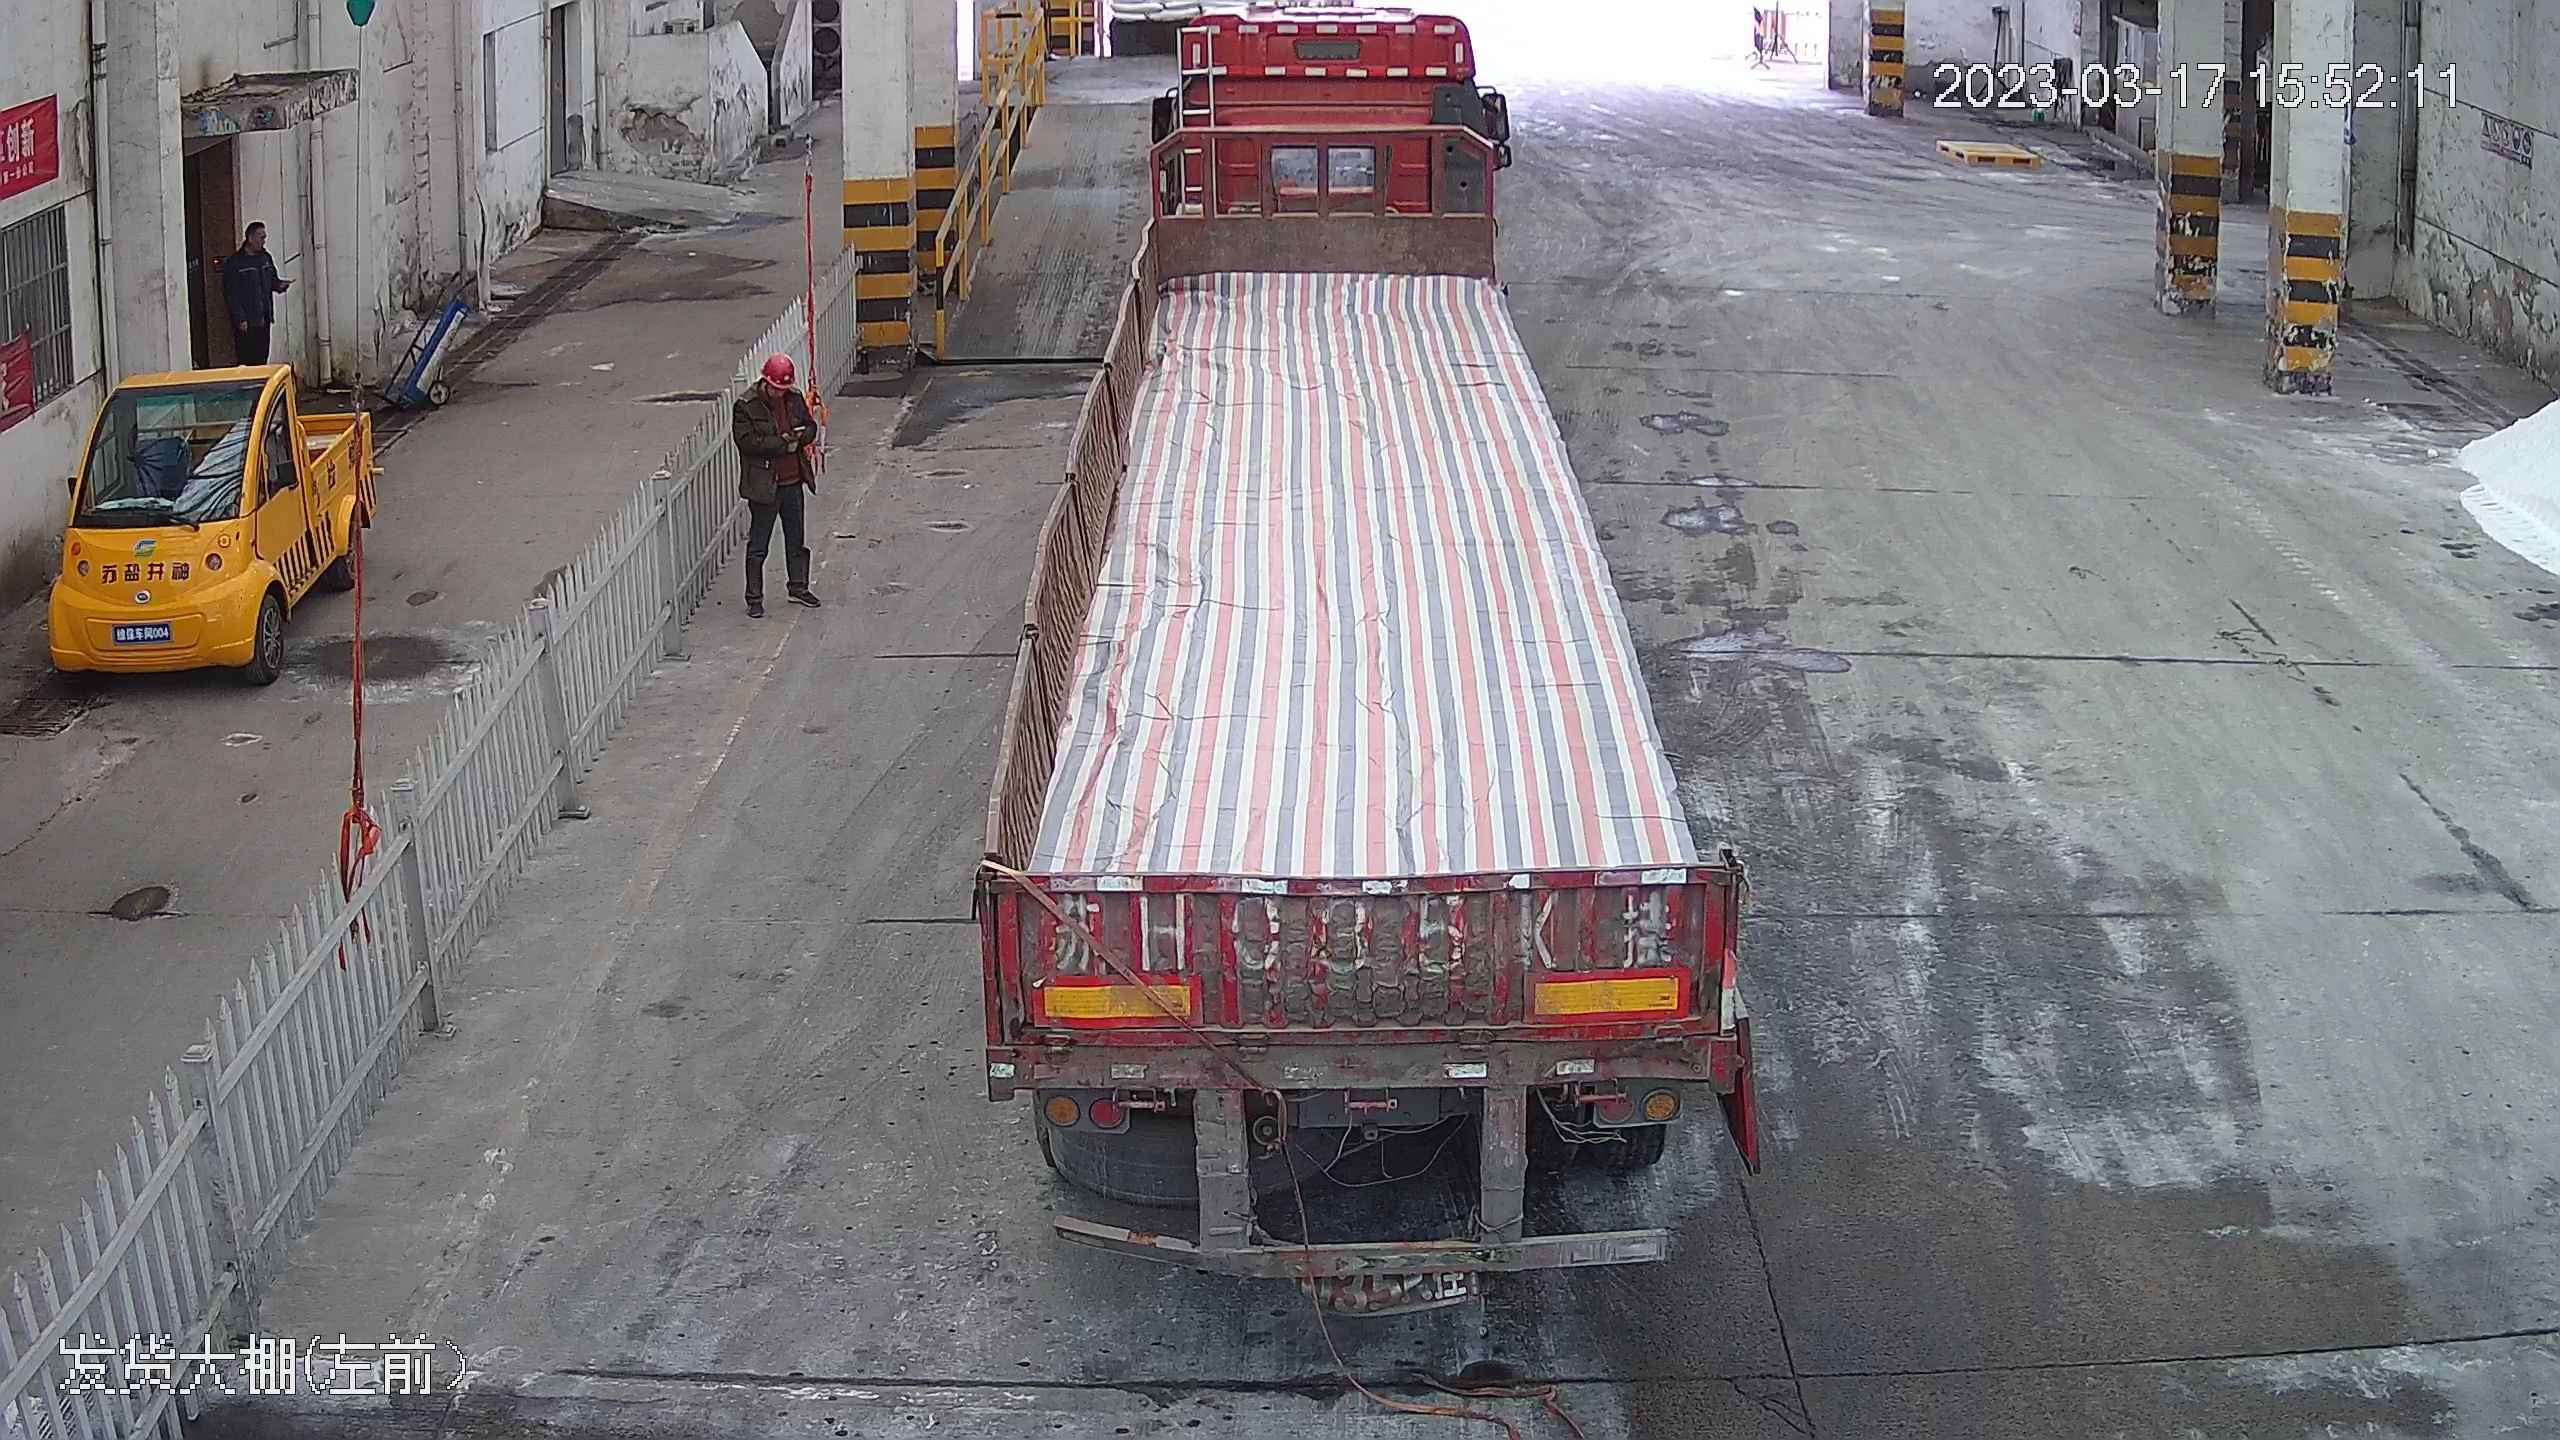head: (732, 346, 812, 421), (229, 217, 274, 275)
helmet: (759, 346, 797, 380)
people: (727, 342, 826, 616), (219, 214, 285, 366)
truck: (946, 1, 1768, 1256)
